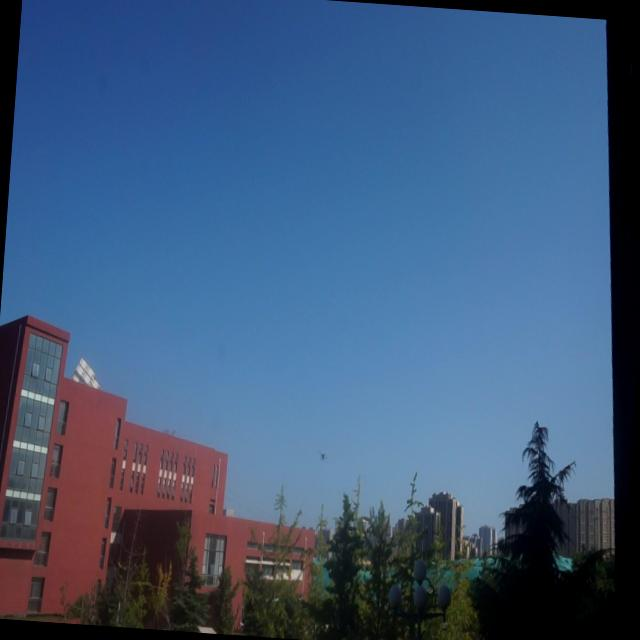drone: (318, 444, 328, 464)
